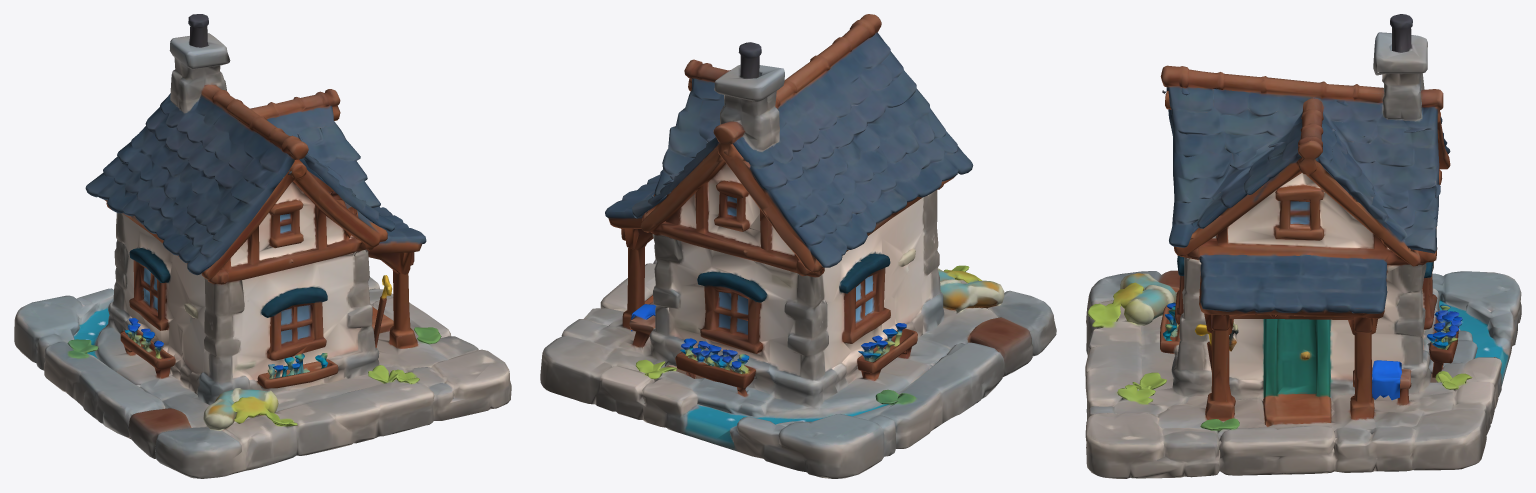
The model's file is rook-house-big.glb.
The picture shows the model from 3 angles, left to right: view 1: azimuth 30°, elevation 25°; view 2: azimuth 150°, elevation 25°; view 3: azimuth 270°, elevation 25°; orthographic projection. The views are drawn at different scales.
Bounding box in the file's own units: 8.78 × 8.17 × 8.85.
Materials: 1 (1 with a texture image).
